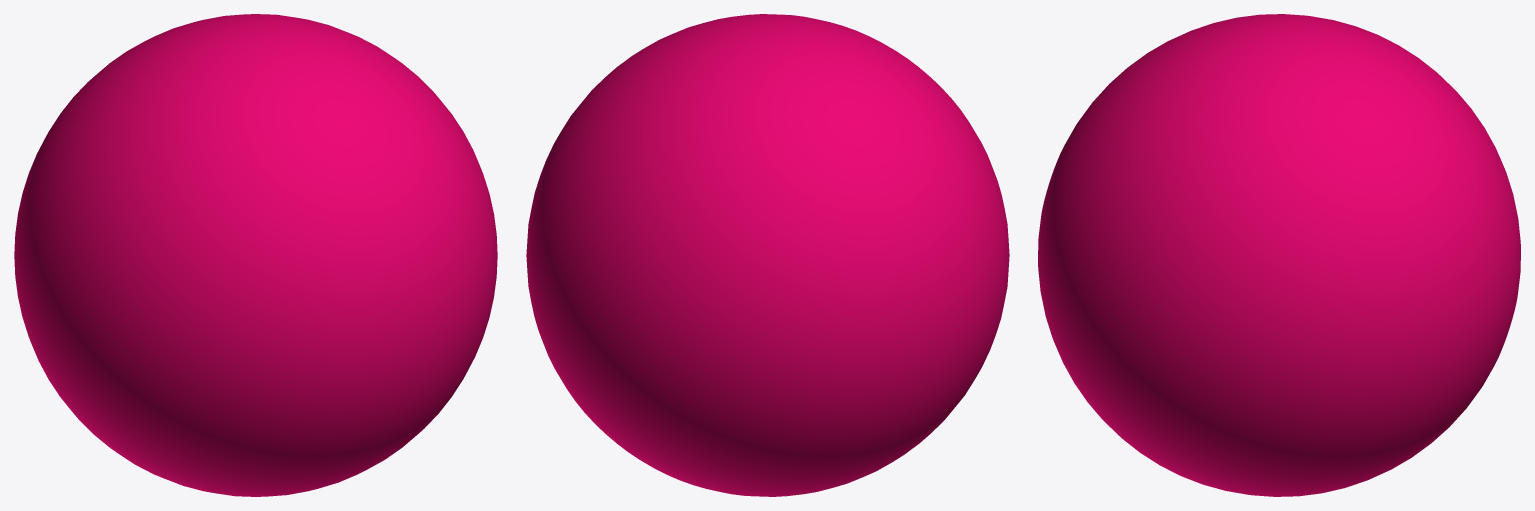
Rendered from DreamGlobe.fbx.
3 renders of one model, left to right at view 1: azimuth 30°, elevation 25°; view 2: azimuth 150°, elevation 25°; view 3: azimuth 270°, elevation 25°, orthographic.
Visible parts, largest first — view 1: DreamGlobe; view 2: DreamGlobe; view 3: DreamGlobe.
Part boxes in pixels (box(x1,y1,x2,y2)): DreamGlobe: box(14, 14, 497, 496); DreamGlobe: box(526, 14, 1009, 496); DreamGlobe: box(1038, 14, 1520, 496).
Bounding box in the file's own units: 200 × 200 × 200.
